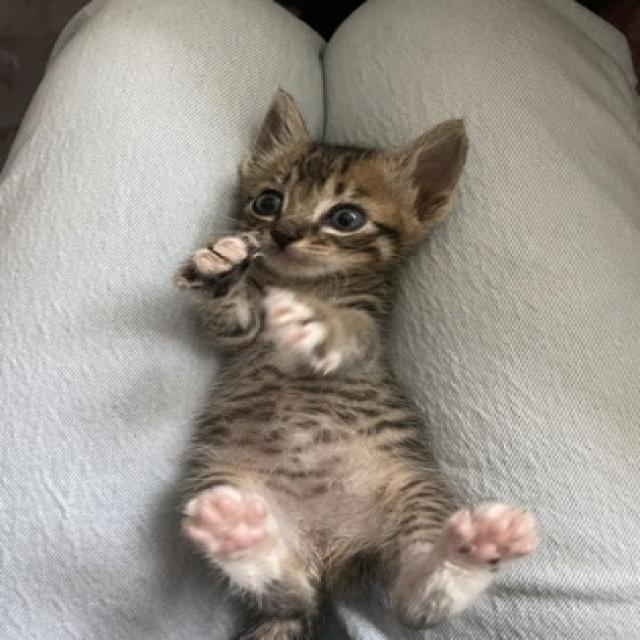domestic_short_hair_cat: (213, 83, 482, 295)
